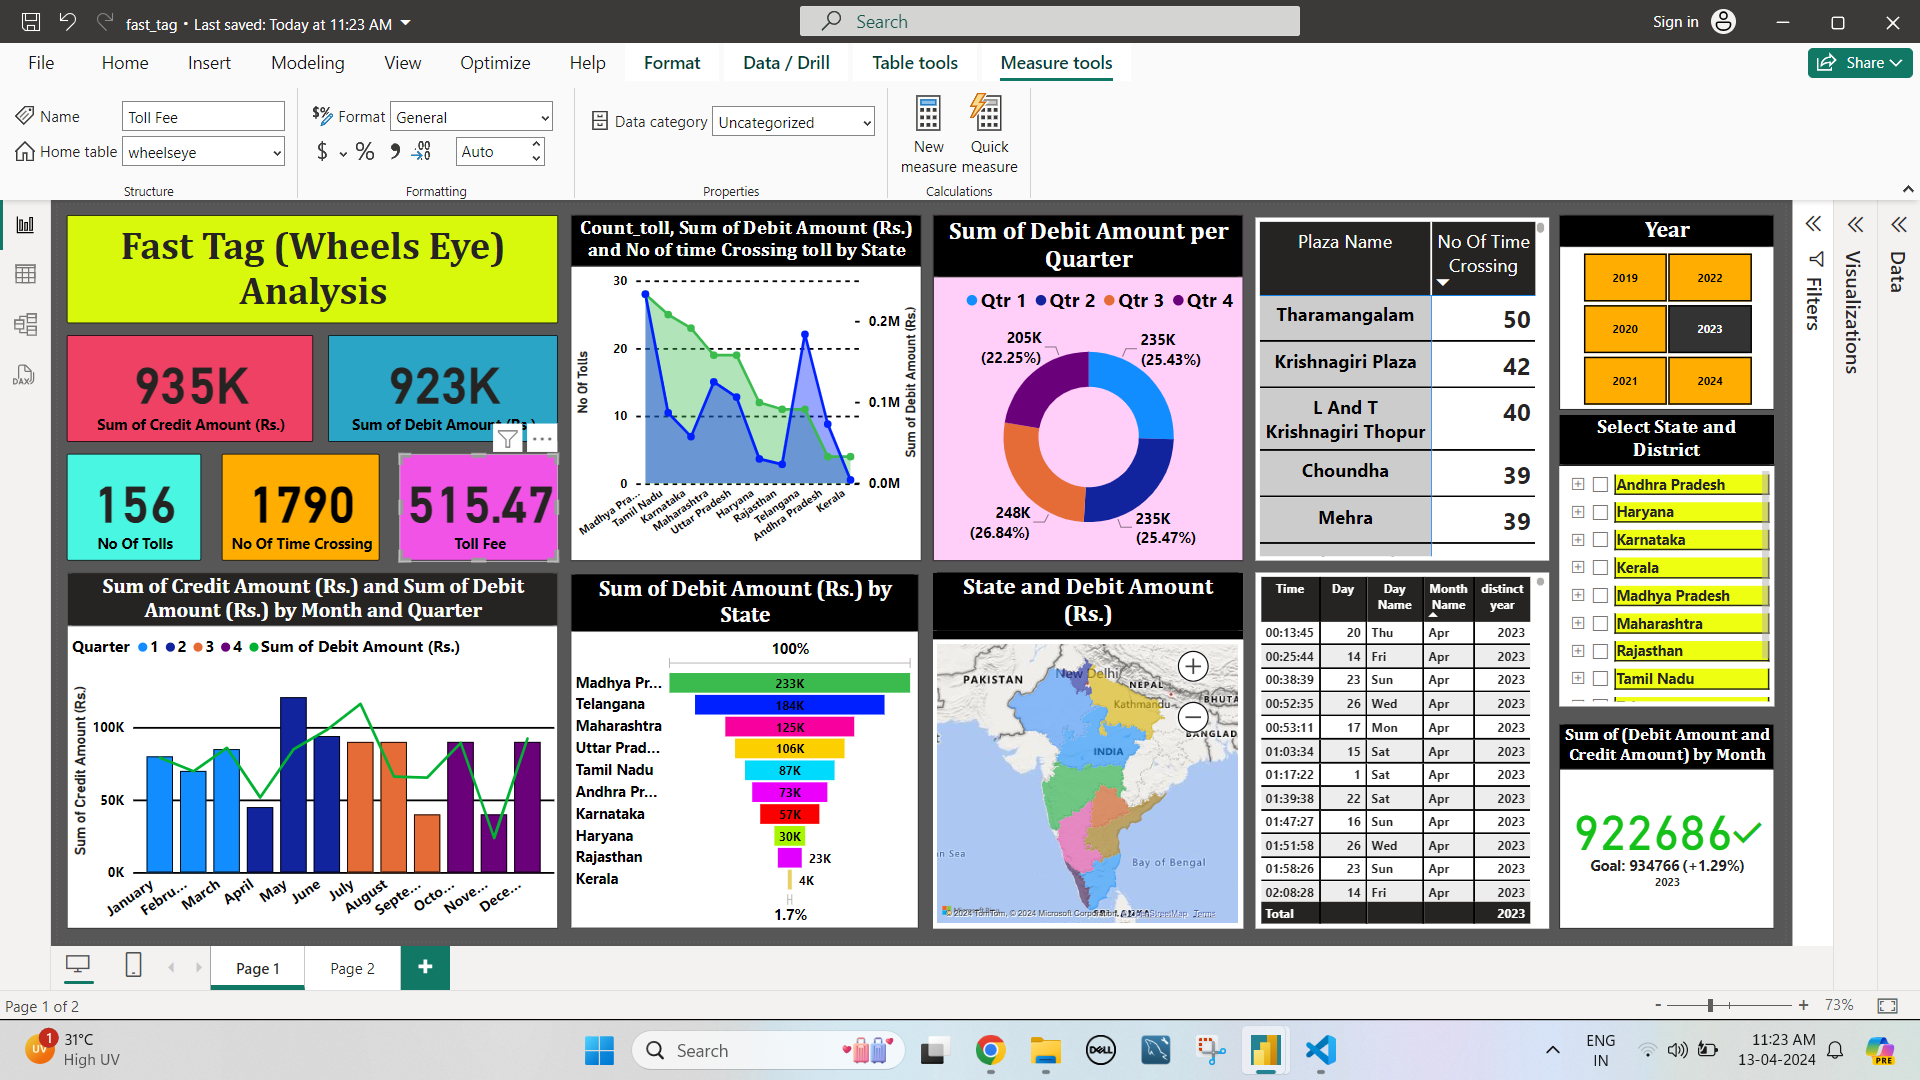

This screenshot's page, from the dashboard's own definition file:
{"tool":"powerbi","page":{"name":"Page 1","canvas":[1900,810],"ordinal":0},"visuals":[{"type":"card","fields":{"Values":["wheelseye.Credit Amount (Rs.)"]},"box":[9.1,143.2,271.3,117.3],"z":0},{"type":"card","fields":{"Values":["wheelseye.Debit Amount (Rs.)"]},"box":[297.2,143.2,253,117.3],"z":1000},{"type":"lineStackedColumnComboChart","fields":{"Category":["wheelseye.Transaction Date.Variation.Date Hierarchy.Year","wheelseye.Transaction Date.Variation.Date Hierarchy.Quarter","wheelseye.Transaction Date.Variation.Date Hierarchy.Month","wheelseye.Transaction Date.Variation.Date Hierarchy.Day"],"Y":["wheelseye.Credit Amount (Rs.)"],"Series":["wheelseye.Quarter"],"Y2":["wheelseye.Debit Amount (Rs.)"]},"box":[9.1,403.8,541,391.6],"z":2000},{"type":"donutChart","title":"Sum of Debit Amount per Quarter","fields":{"Category":["wheelseye.Transaction Date.Variation.Date Hierarchy.Year","wheelseye.Transaction Date.Variation.Date Hierarchy.Quarter","wheelseye.Transaction Date.Variation.Date Hierarchy.Month","wheelseye.Transaction Date.Variation.Date Hierarchy.Day"],"Y":["wheelseye.Debit Amount (Rs.)"]},"box":[963.1,10.7,341.4,381],"z":3000},{"type":"slicer","title":"Year","fields":{"Values":["wheelseye.Year","wheelseye.Month Name"]},"box":[1651.8,10.4,236.5,214],"z":4000},{"type":"card","fields":{"Values":["wheelseye.no of time crossing toll"]},"box":[179.8,274.3,173.7,117.3],"z":5000},{"type":"funnel","fields":{"Y":["wheelseye.Debit Amount (Rs.)"],"Category":["wheelseye.State"]},"box":[564.4,405.6,383.2,390.1],"z":6000},{"type":"areaChart","title":"Count_toll, Sum of Debit Amount (Rs.) and No of time Crossing toll by State","fields":{"Category":["wheelseye.State"],"Y":["wheelseye.count_toll"],"Y2":["wheelseye.Debit Amount (Rs.)"]},"box":[563.8,11,386.4,380.9],"z":7000},{"type":"kpi","title":"Sum of (Debit Amount and Credit Amount) by Month ","fields":{"Goal":["wheelseye.Credit Amount (Rs.)"],"Indicator":["wheelseye.Debit Amount (Rs.)"],"TrendLine":["wheelseye.Year"]},"box":[1651.6,570.7,236.5,225.5],"z":8000},{"type":"filledMap","fields":{"Category":["wheelseye.State"],"Series":["wheelseye.Debit Amount (Rs.)"]},"box":[963.1,403.8,341.4,391.6],"z":9000},{"type":"card","fields":{"Values":["wheelseye.count_toll"]},"box":[9.1,274.3,147.8,117.3],"z":10000},{"type":"card","fields":{"Values":["wheelseye.toll Fee"]},"box":[374.9,274.3,175.2,117.3],"z":11000},{"type":"slicer","title":"Select State and District","fields":{"Values":["wheelseye.State","wheelseye.District"]},"box":[1651.6,231,236.5,320.4],"z":12000},{"type":"pivotTable","fields":{"Rows":["wheelseye.Plaza Name"],"Values":["wheelseye.no of time crossing toll"]},"box":[1318.2,13.7,323.1,377.9],"z":13000},{"type":"tableEx","fields":{"Values":["wheelseye.Time","wheelseye.Day","wheelseye.Day Name","wheelseye.Month Name","wheelseye.distinct year"]},"box":[1318.2,403.8,323.1,391.6],"z":14000},{"type":"textbox","box":[9.1,10.7,541,118.9],"z":15000}]}

Visuals, with their boxes on the page's 1900x810 design canvas (x1, y1, x2, y2). These are canvas units, not pixel positions in the 1920x1080 screenshot, which may show the page scaled, cropped or inside an application window:
card - wheelseye.Credit Amount (Rs.): left=9, top=143, right=280, bottom=260
card - wheelseye.Debit Amount (Rs.): left=297, top=143, right=550, bottom=260
lineStackedColumnComboChart - wheelseye.Transaction Date.Variation.Date Hierarchy.Year x wheelseye.Transaction Date.Variation.Date Hierarchy.Quarter: left=9, top=404, right=550, bottom=795
"Sum of Debit Amount per Quarter" donutChart: left=963, top=11, right=1304, bottom=392
"Year" slicer: left=1652, top=10, right=1888, bottom=224
card - wheelseye.no of time crossing toll: left=180, top=274, right=354, bottom=392
funnel - wheelseye.Debit Amount (Rs.) x wheelseye.State: left=564, top=406, right=948, bottom=796
"Count_toll, Sum of Debit Amount (Rs.) and No of time Crossing toll by State" areaChart: left=564, top=11, right=950, bottom=392
"Sum of (Debit Amount and Credit Amount) by Month " kpi: left=1652, top=571, right=1888, bottom=796
filledMap - wheelseye.State x wheelseye.Debit Amount (Rs.): left=963, top=404, right=1304, bottom=795
card - wheelseye.count_toll: left=9, top=274, right=157, bottom=392
card - wheelseye.toll Fee: left=375, top=274, right=550, bottom=392
"Select State and District" slicer: left=1652, top=231, right=1888, bottom=551
pivotTable - wheelseye.Plaza Name x wheelseye.no of time crossing toll: left=1318, top=14, right=1641, bottom=392
tableEx - wheelseye.Time x wheelseye.Day: left=1318, top=404, right=1641, bottom=795
textbox: left=9, top=11, right=550, bottom=130
